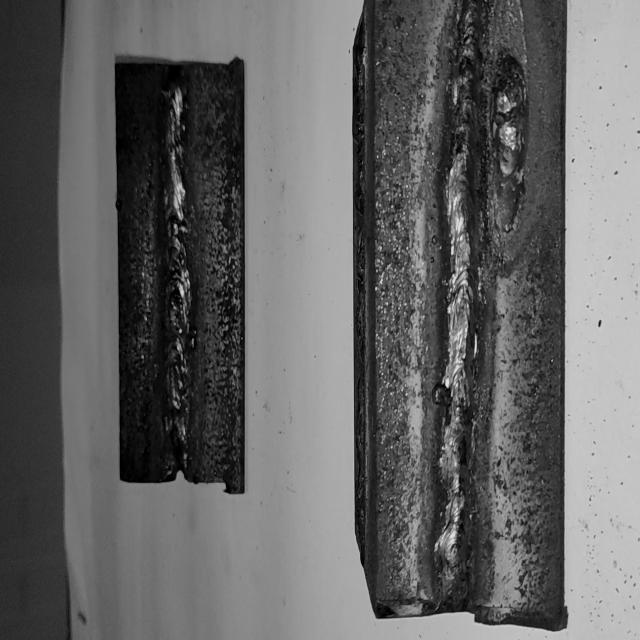Bad Weld: (443, 3, 482, 592)
Defect: (435, 56, 532, 180)
Good Weld: (163, 75, 191, 470)
